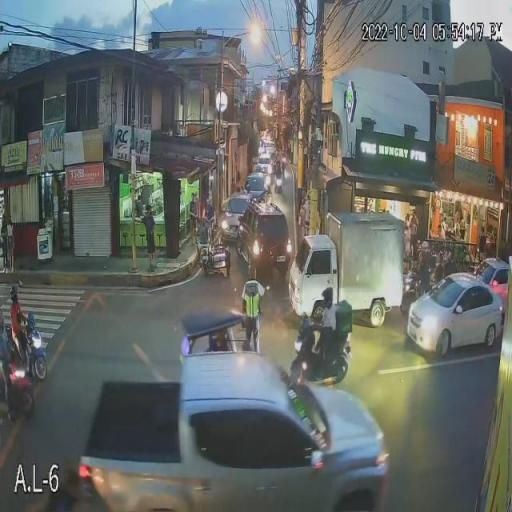helmet: (321, 286, 334, 307), (8, 286, 22, 301)
motorcycle: (289, 318, 351, 387), (0, 311, 50, 381)
rider: (310, 286, 340, 355), (8, 287, 34, 346)
